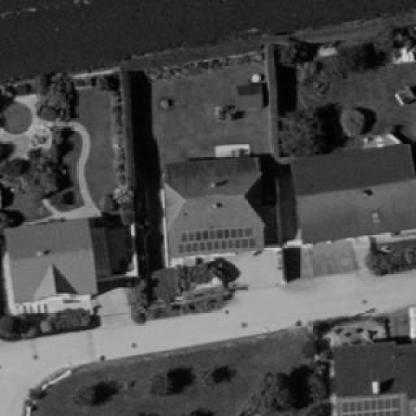solar-pv-panel: (177, 229, 255, 252), (343, 397, 401, 416)
